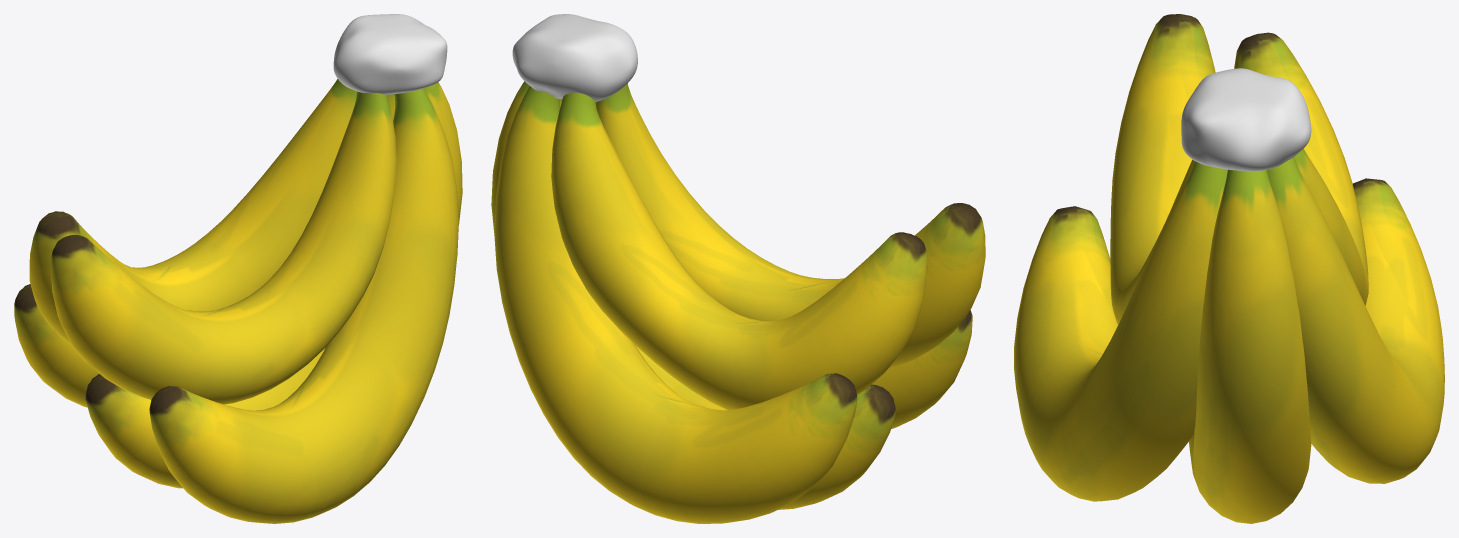
File: pisang (banyak) (jadi satu).fbx
3 renders of one model, left to right at view 1: azimuth 30°, elevation 25°; view 2: azimuth 150°, elevation 25°; view 3: azimuth 270°, elevation 25°, orthographic. The views are drawn at different scales.
Visible parts, largest first — view 1: Torus.003; view 2: Torus.003; view 3: Torus.003.
Boxes of the visible parts, x1=… form: Torus.003: x1=14, y1=14, x2=462, y2=523; Torus.003: x1=491, y1=14, x2=985, y2=523; Torus.003: x1=1014, y1=14, x2=1444, y2=523.
Bounding box in the file's own units: 245 × 225 × 174.
